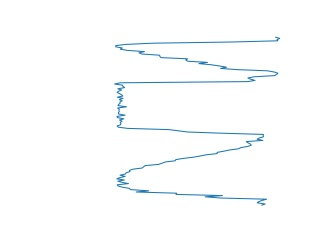distributaryChannelFill: (109, 72, 269, 140)
mouthBar: (111, 32, 283, 76)
underwaterDistributaryChannel: (112, 138, 269, 208)
